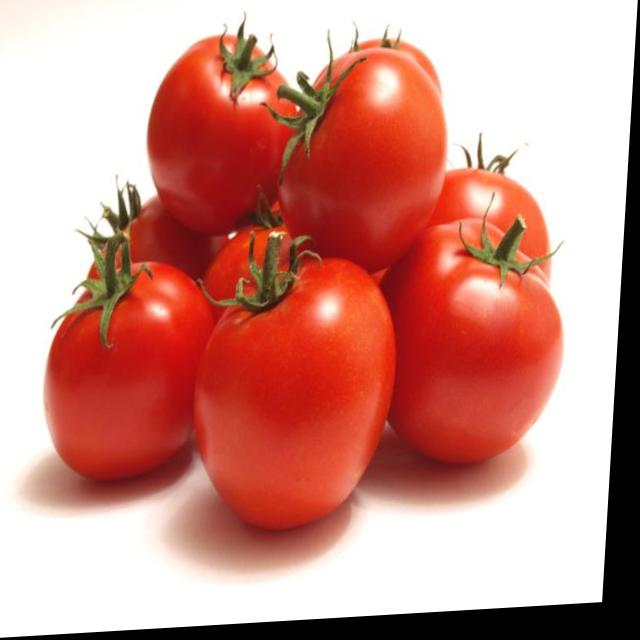kirmizi: (32, 20, 562, 545)
